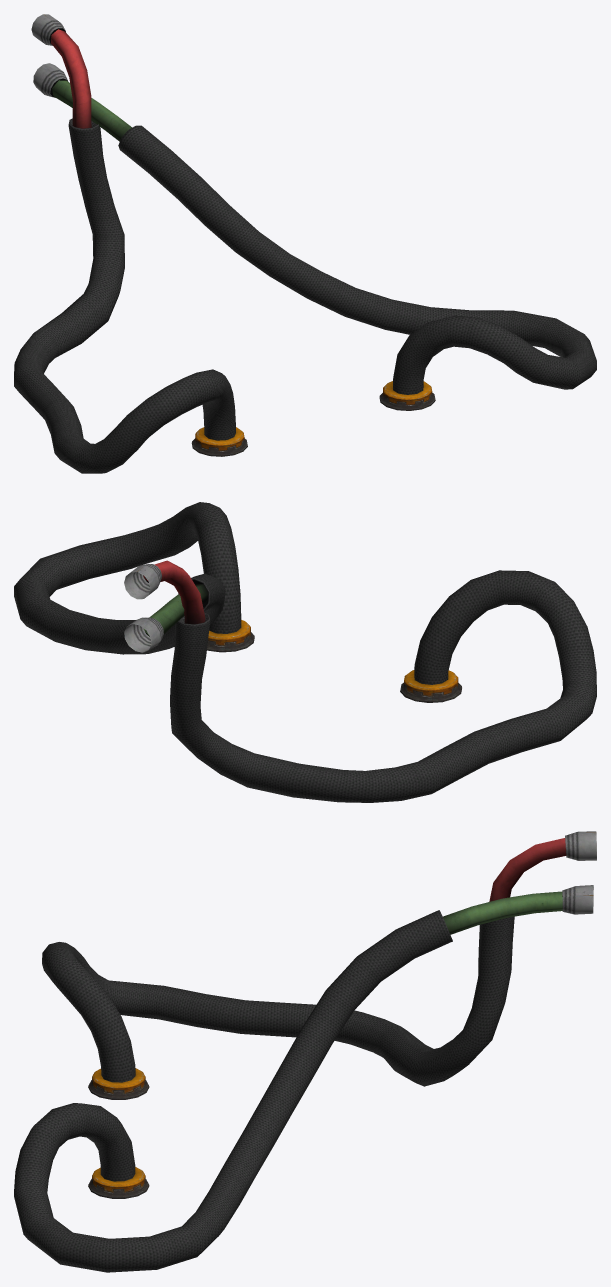
File: 01_02_power_cable_connected.dae
The picture shows the model from 3 angles, top to bottom: view 1: azimuth 30°, elevation 25°; view 2: azimuth 150°, elevation 25°; view 3: azimuth 270°, elevation 25°; orthographic projection. The views are drawn at different scales.
Parts seen in each view (by area): view 1: cables_connected; view 2: cables_connected; view 3: cables_connected.
Part boxes in pixels (<box>): cables_connected: <box>14,14,596,473</box>; cables_connected: <box>14,502,596,802</box>; cables_connected: <box>14,831,596,1272</box>.
Bounding box in the file's own units: 2.72 × 1.31 × 2.5.
